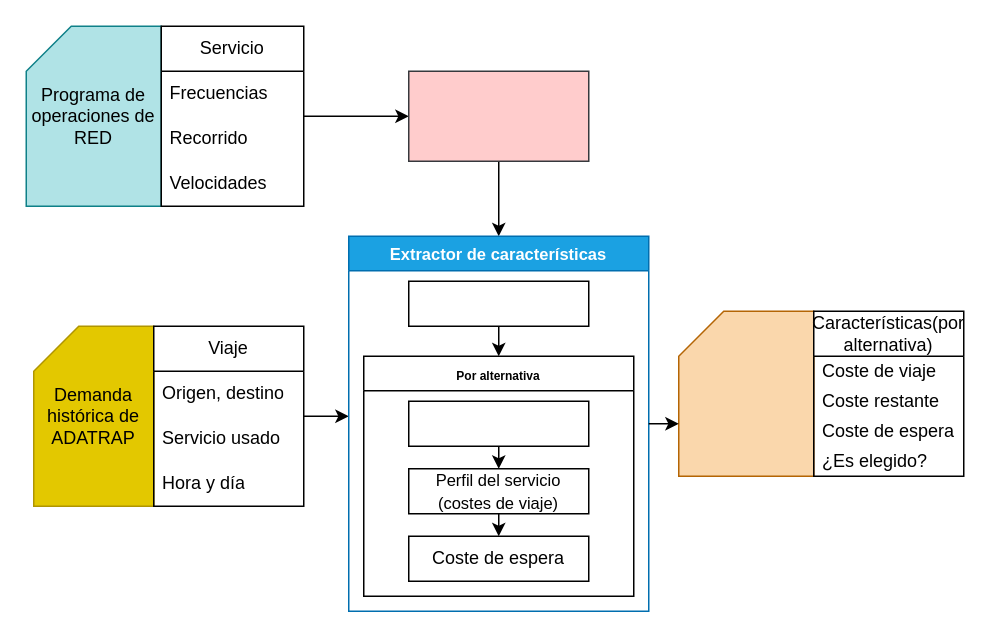
The diagram is 990 pixels wide and 638 high, and some of its shapes have lost their labels. Each missing label, with the centre of its shape:
"Algoritmo de Dijkstra inverso (coste restante)" goes at pixel 498 423.
"DATOS DE ENTRE- NAMIENTO" goes at pixel 745 393.
"Expansión en alternativas" goes at pixel 498 303.
"Grafo de estado bipartito" goes at pixel 498 115.
